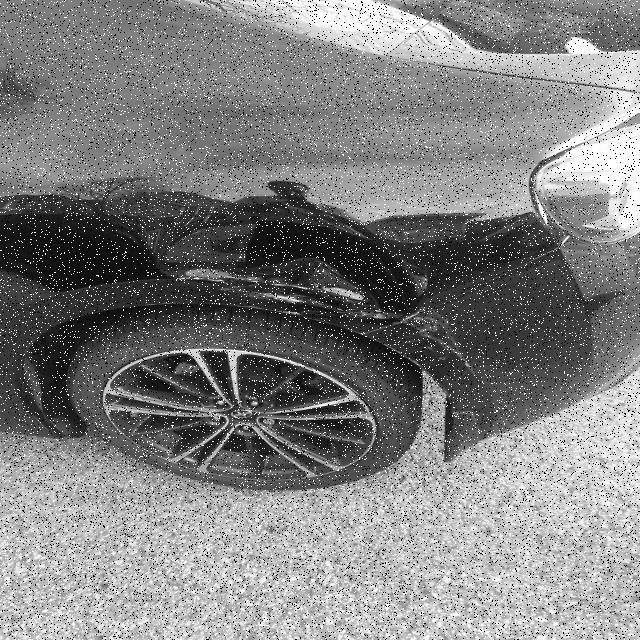quaterpanel-dent: (0, 178, 536, 403)
